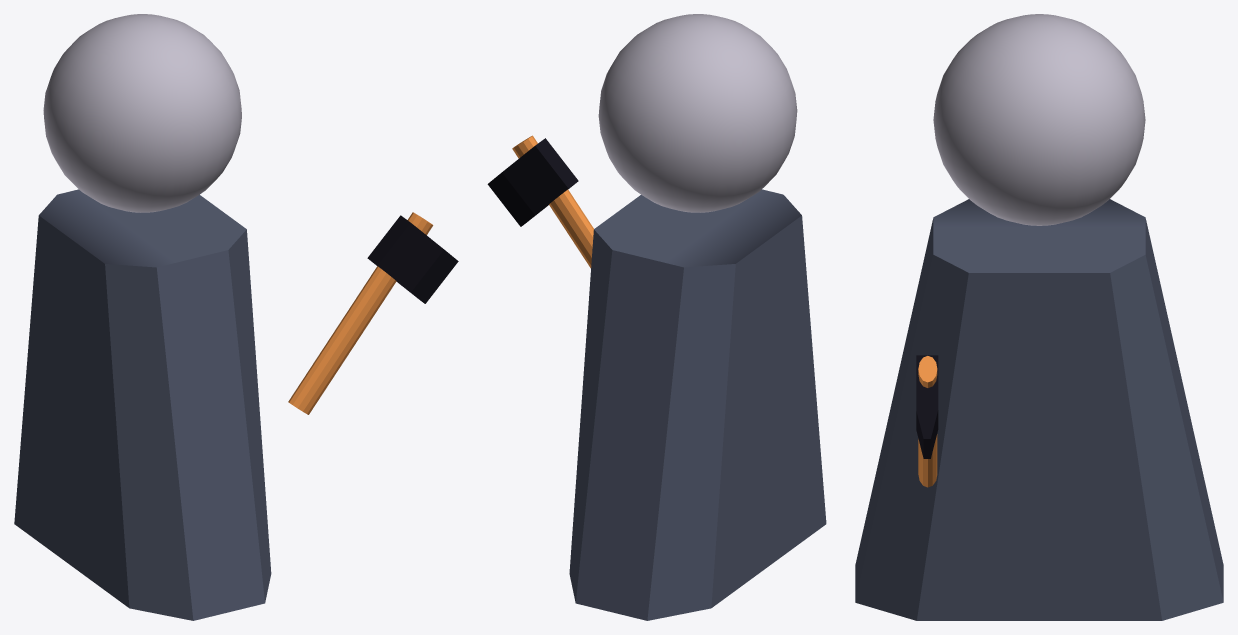
The model's file is Person.fbx.
3 renders of one model, left to right at view 1: azimuth 30°, elevation 25°; view 2: azimuth 150°, elevation 25°; view 3: azimuth 270°, elevation 25°, orthographic. The views are drawn at different scales.
Visible parts, largest first — view 1: Body, Head, Cylinder.002; view 2: Body, Head, Cylinder.002; view 3: Body, Head, Cylinder.002.
Part boxes in pixels (x1=…): Body: x1=14, y1=189, x2=271, y2=620; Head: x1=43, y1=14, x2=241, y2=212; Cylinder.002: x1=288, y1=212, x2=458, y2=414; Body: x1=569, y1=189, x2=826, y2=620; Head: x1=598, y1=14, x2=797, y2=212; Cylinder.002: x1=487, y1=135, x2=593, y2=268; Body: x1=855, y1=199, x2=1223, y2=620; Head: x1=933, y1=14, x2=1145, y2=225; Cylinder.002: x1=916, y1=355, x2=938, y2=487.
Size of the model in its own units: 403 by 583 by 347.
1 material, 1 textured.
